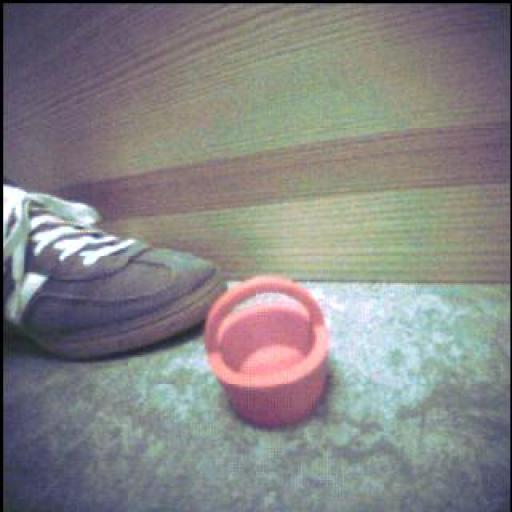Bucket: (206, 276, 331, 428)
